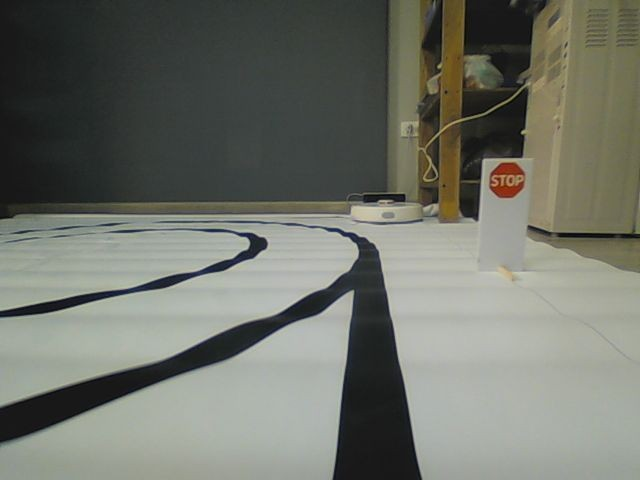Stop: (488, 161, 526, 200)
